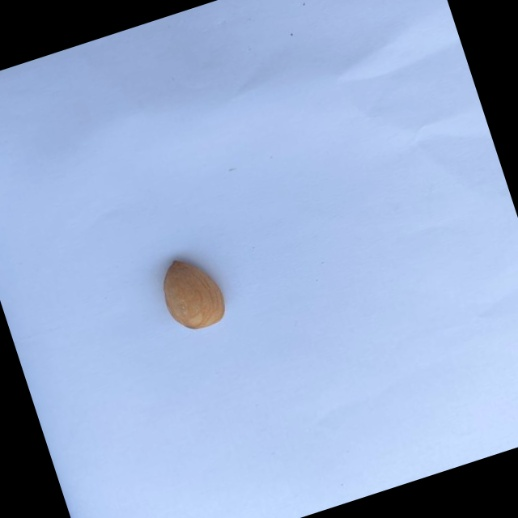grade2: (151, 246, 237, 340)
